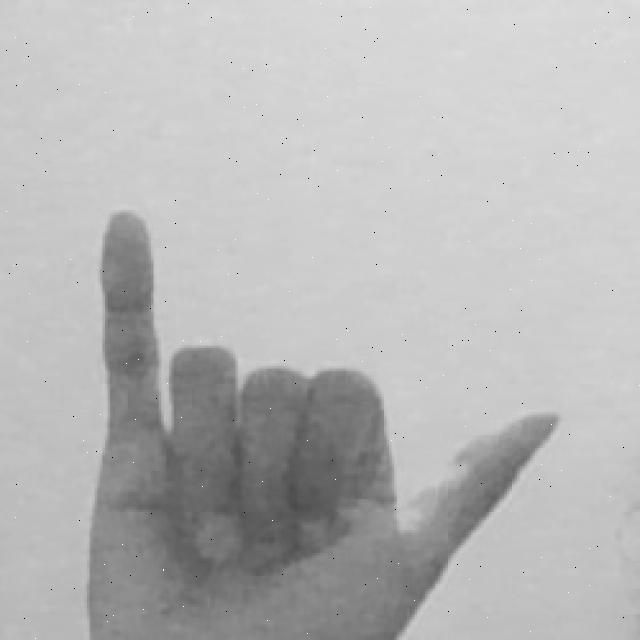Y: (77, 202, 566, 640)
